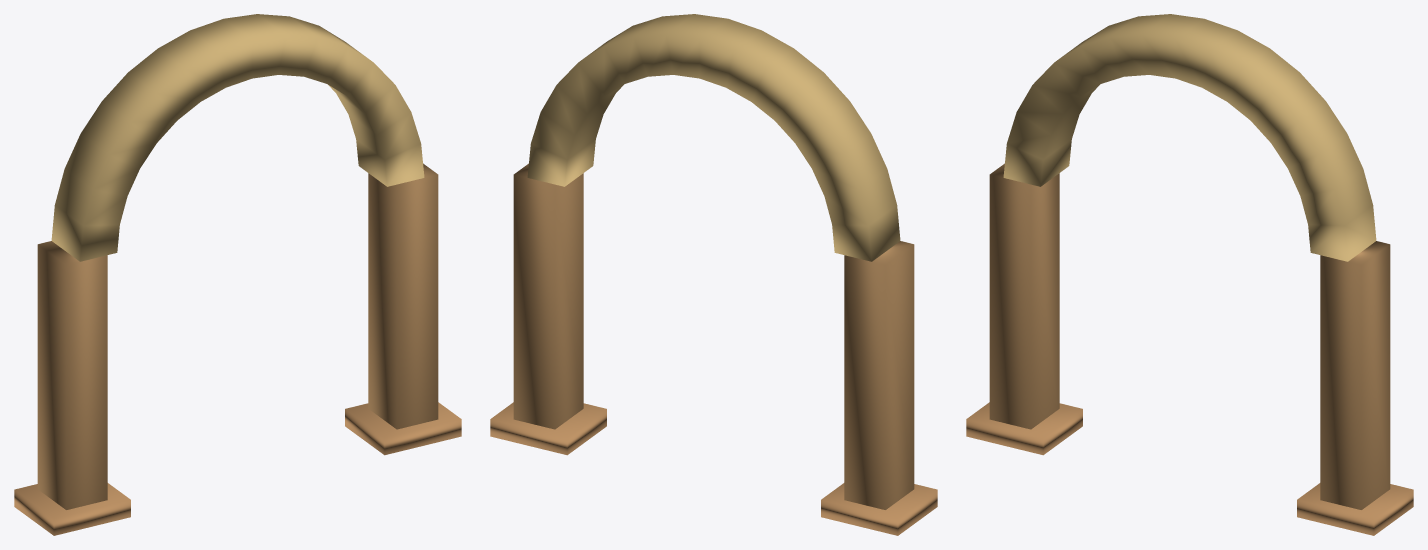
Rendered from gate.glb.
3 views of the same model, side by side, from view 1: azimuth 30°, elevation 25°; view 2: azimuth 150°, elevation 25°; view 3: azimuth 330°, elevation 25° (orthographic).
Visible parts, largest first — view 1: gate; view 2: gate; view 3: gate.
Boxes of the visible parts, <box> form: gate: <box>14,14,461,535</box>; gate: <box>490,14,937,535</box>; gate: <box>966,14,1413,535</box>.
Size of the model in its own units: 2.96 by 3.07 by 0.5.
